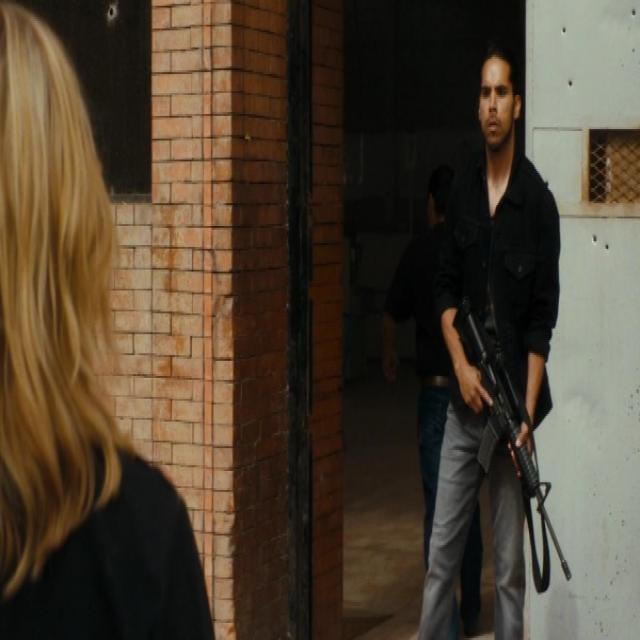rifle: (452, 296, 575, 591)
